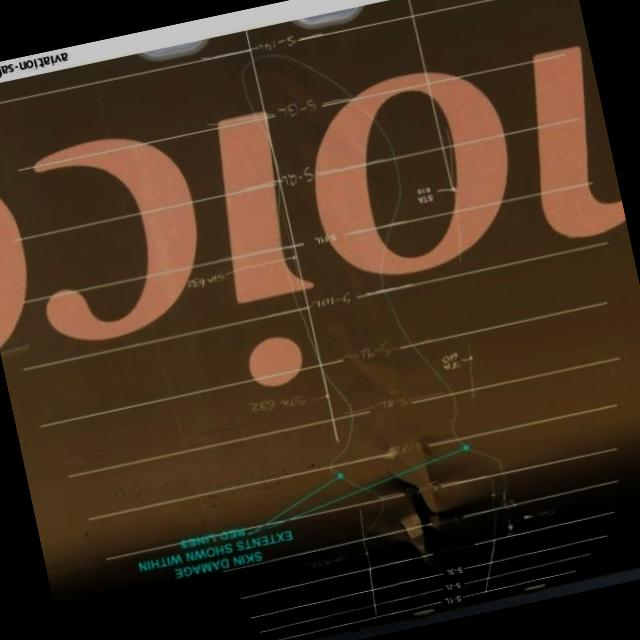dent: (258, 40, 512, 620)
